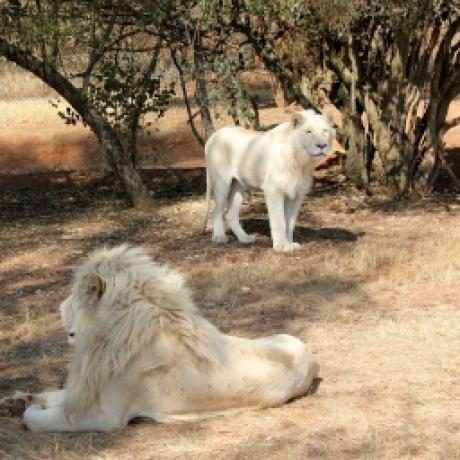Lion: (0, 242, 319, 435), (197, 104, 340, 255)
